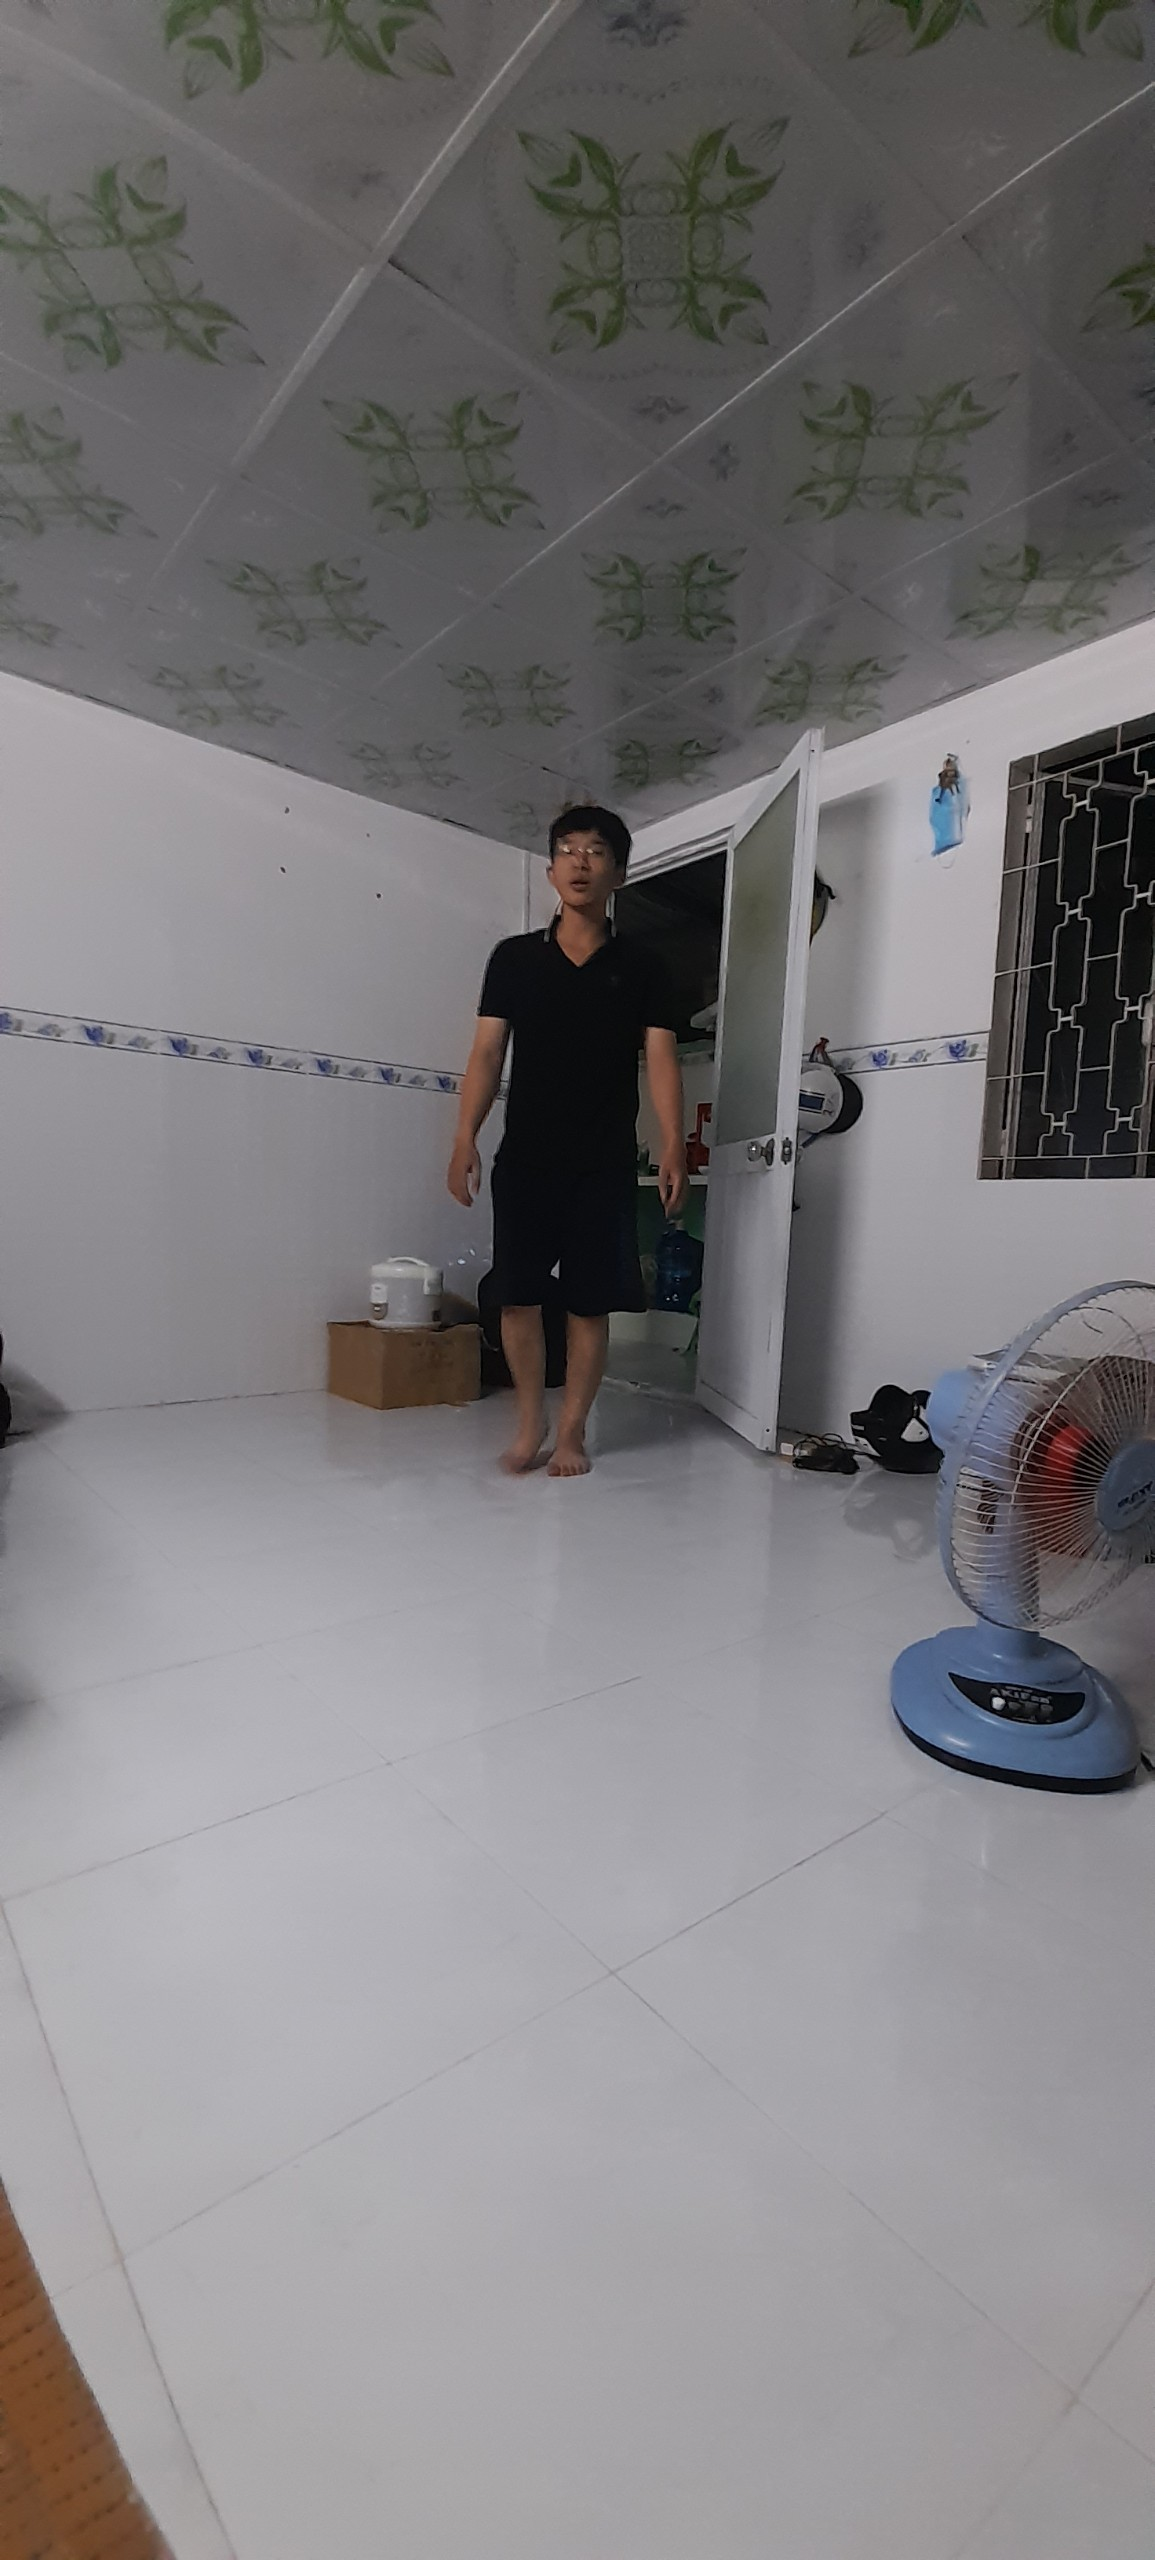person: (462, 812, 687, 1479)
